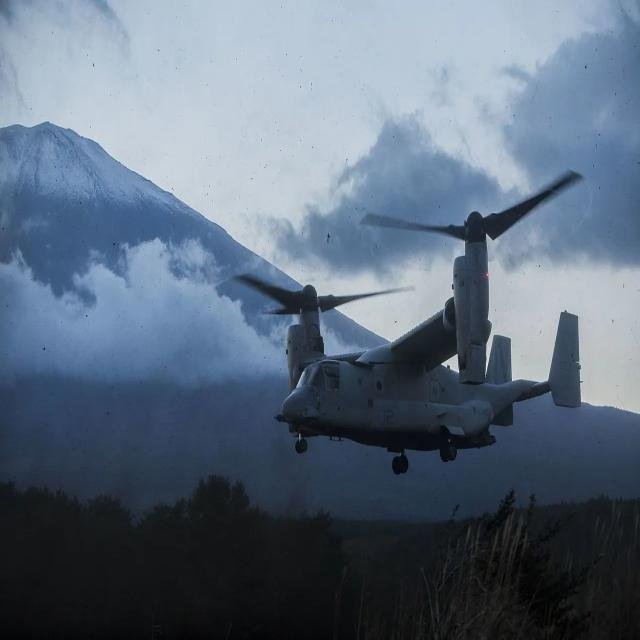MIL_Plane: (232, 168, 586, 474)
